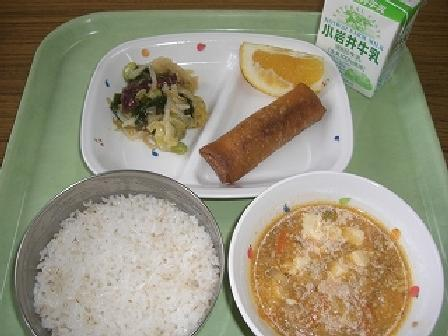Citrus: (237, 30, 321, 91)
Milk: (322, 0, 425, 85)
Rice: (14, 177, 225, 334)
Salad: (106, 56, 197, 153)
Spicy chili-flavored tofu: (227, 182, 442, 335)
crepe w filling: (199, 94, 329, 183)
